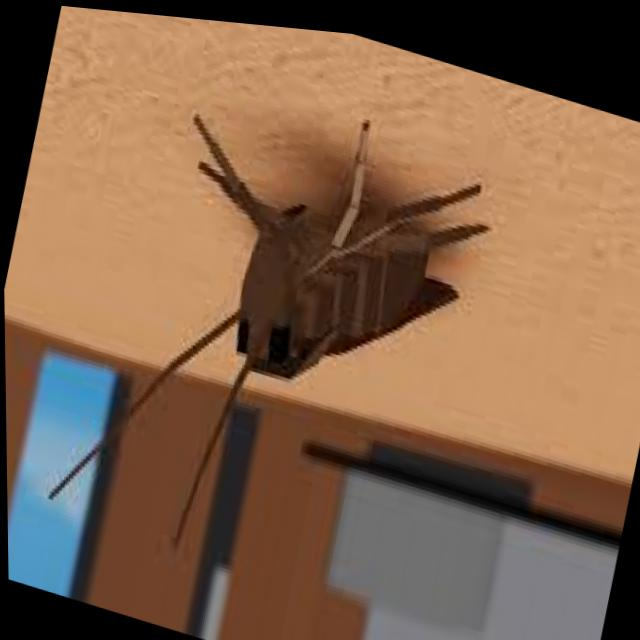Cockroach: (14, 3, 523, 637)
